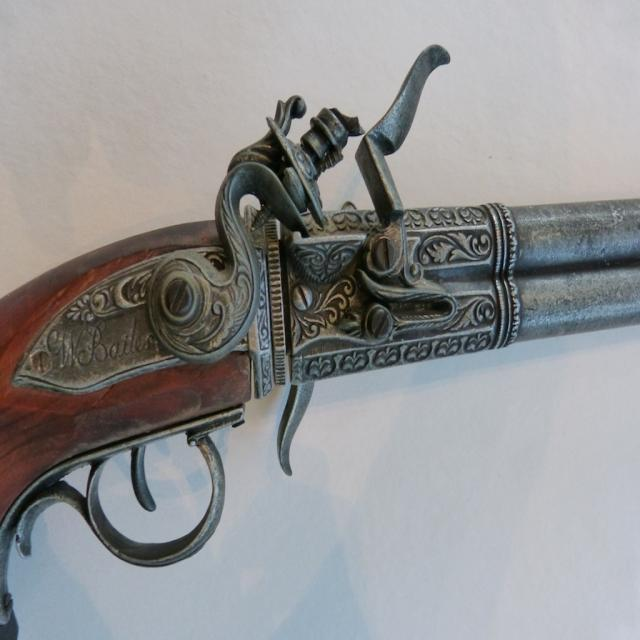Gun: (0, 45, 640, 639)
